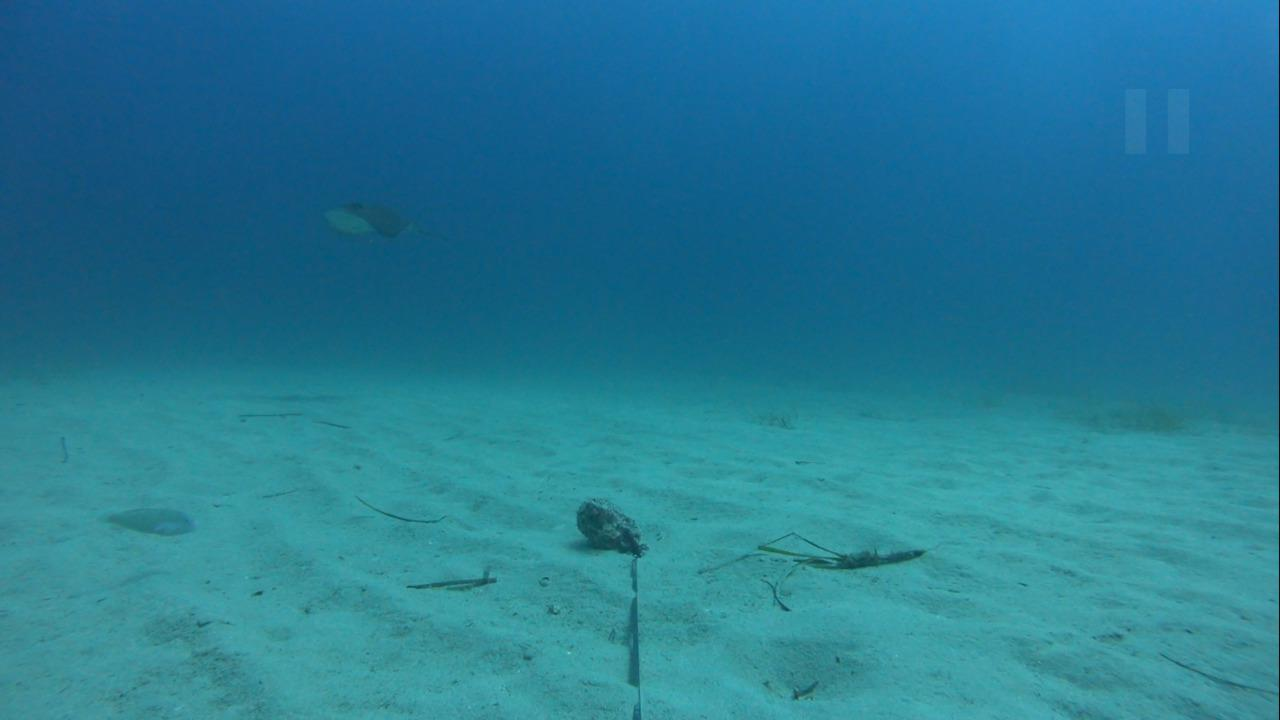myliobatis: (301, 192, 460, 250)
raor: (86, 500, 201, 539)
